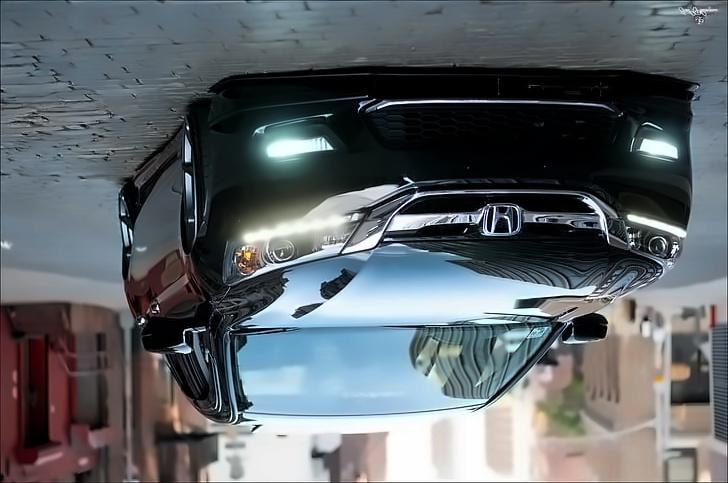Car hood: (216, 234, 664, 330)
Front bumper: (198, 55, 703, 197)
Headlight - -L-: (220, 214, 400, 287)
Headlight - -R-: (598, 207, 695, 270)
Passenger-s door - -F-L-: (145, 147, 220, 425)
Passenger-s door - -R-L-: (123, 185, 201, 411)
Side bumper - -L-: (122, 117, 195, 204)
Side bumper - -R-: (558, 302, 618, 355)
Side mirror - -L-: (137, 308, 200, 362)
